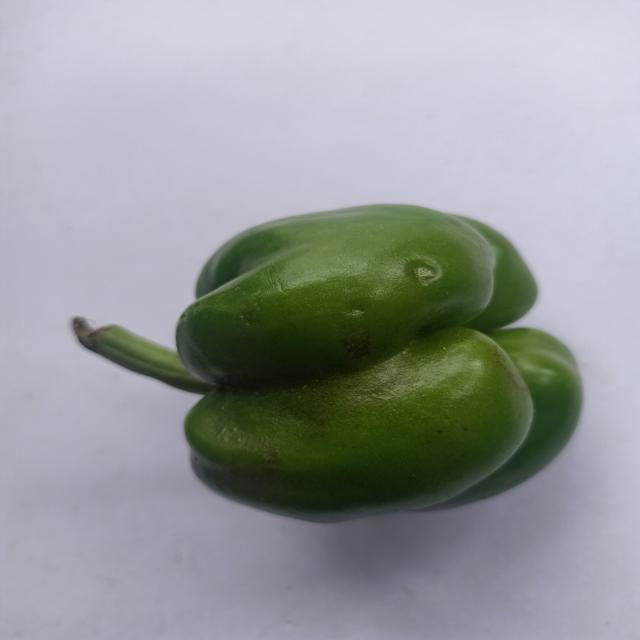Capsicum: (58, 196, 616, 527)
